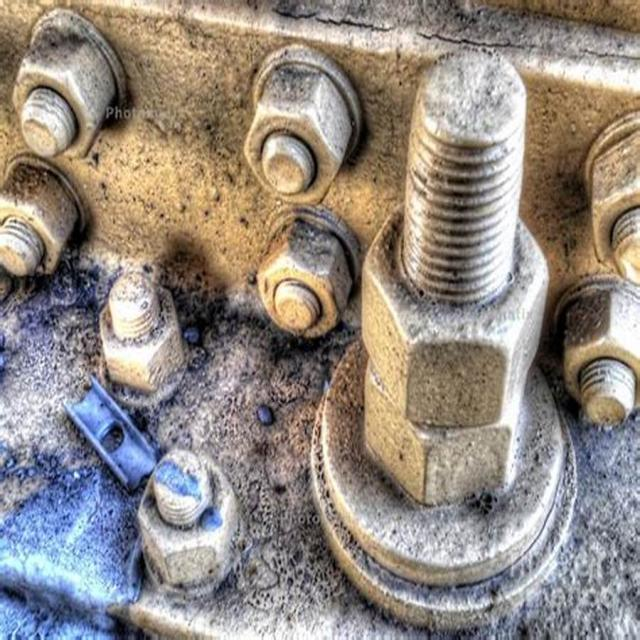bolt nut: (360, 201, 549, 430), (240, 69, 354, 211), (136, 449, 239, 587), (13, 37, 117, 159), (258, 225, 352, 340), (562, 288, 638, 430), (96, 280, 186, 392), (3, 159, 84, 279)
